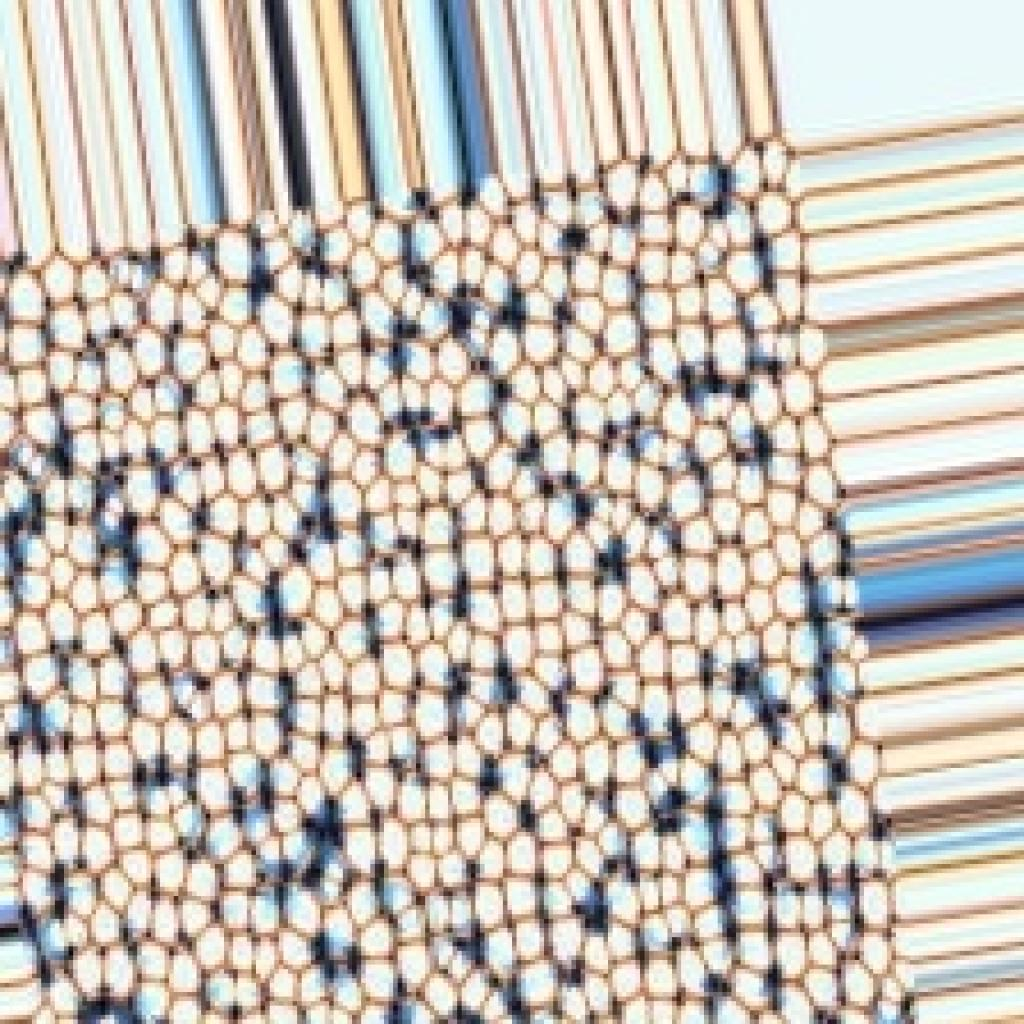Sprialbacteria: (0, 0, 928, 1019)
